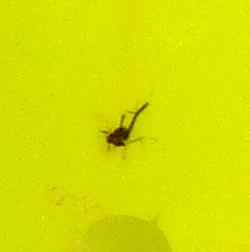Nematocera: (100, 100, 150, 152)
